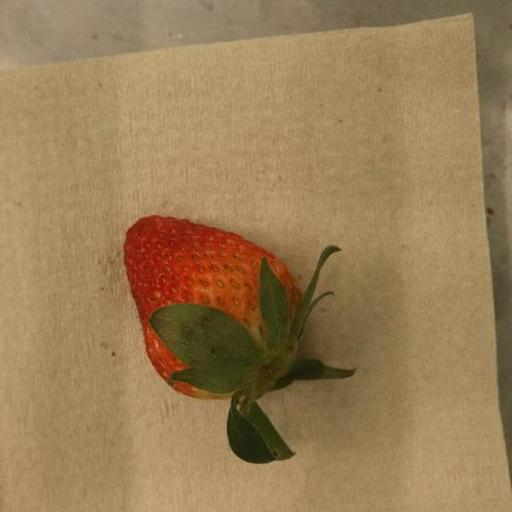Strawberry: (123, 215, 356, 465)
